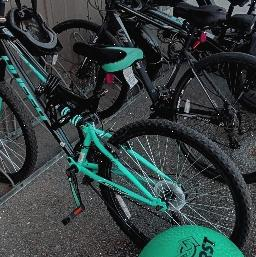algae: (132, 226, 256, 257)
